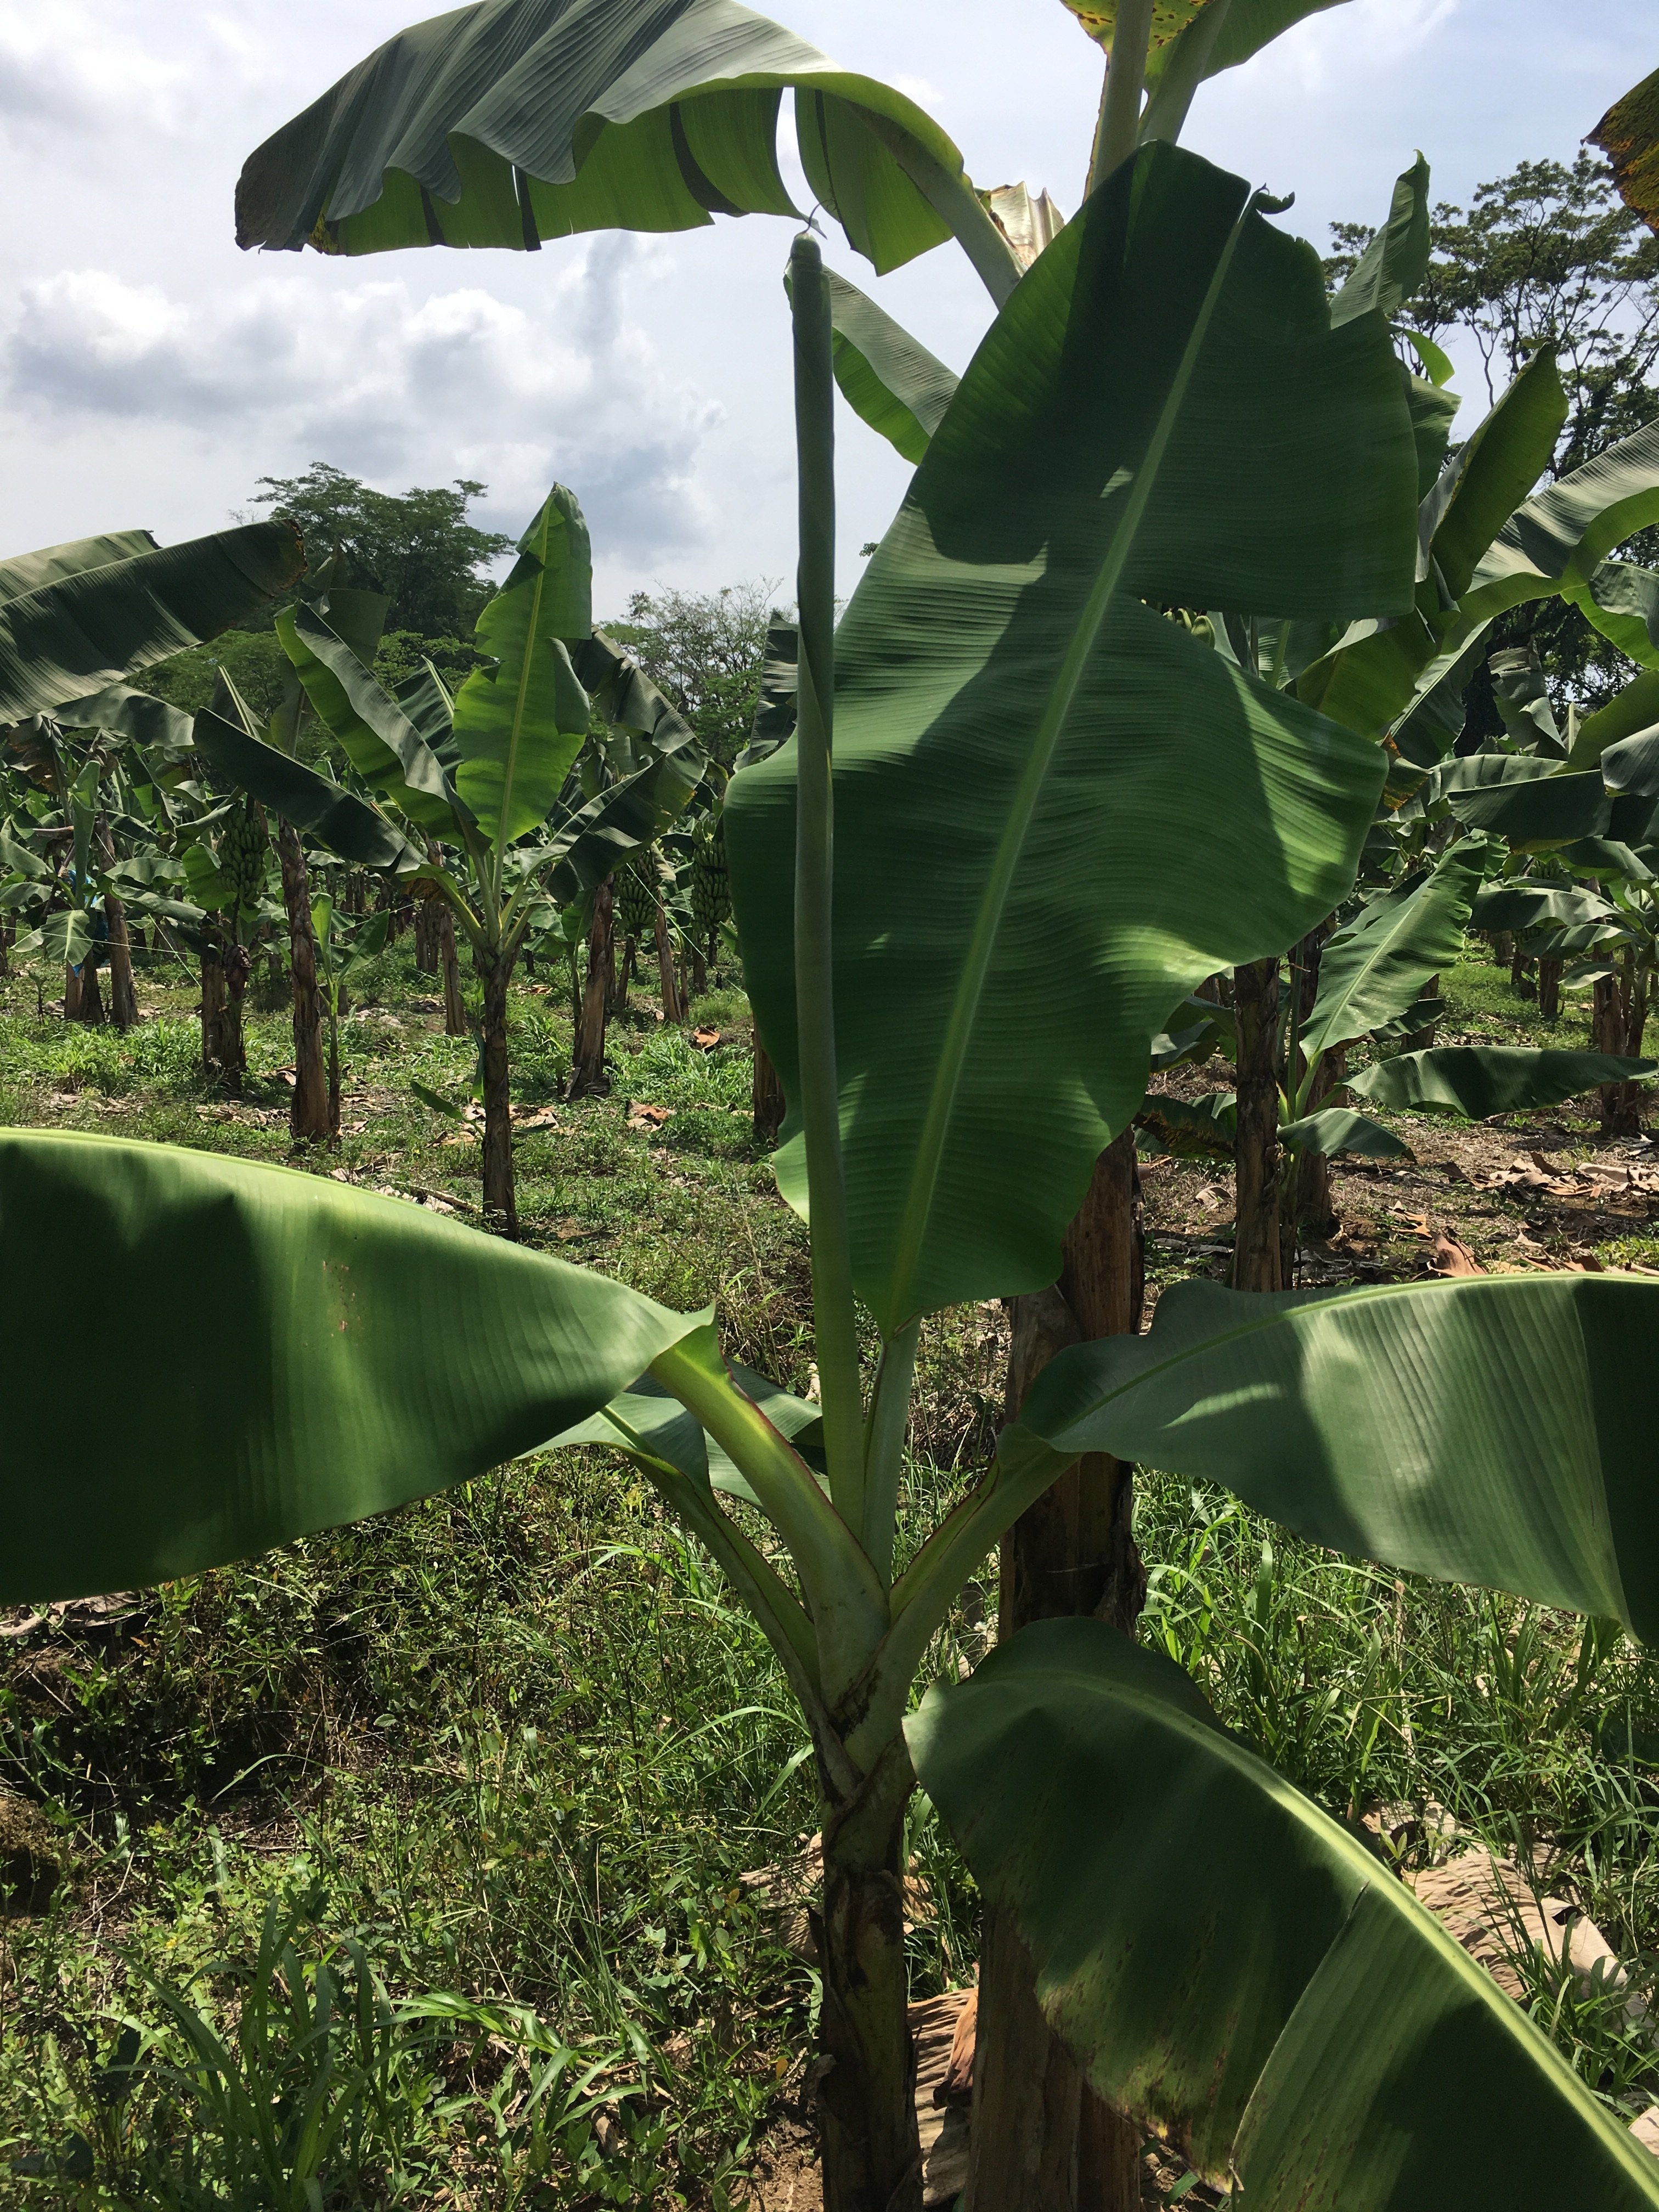candleleafs: (781, 230, 854, 1425)
